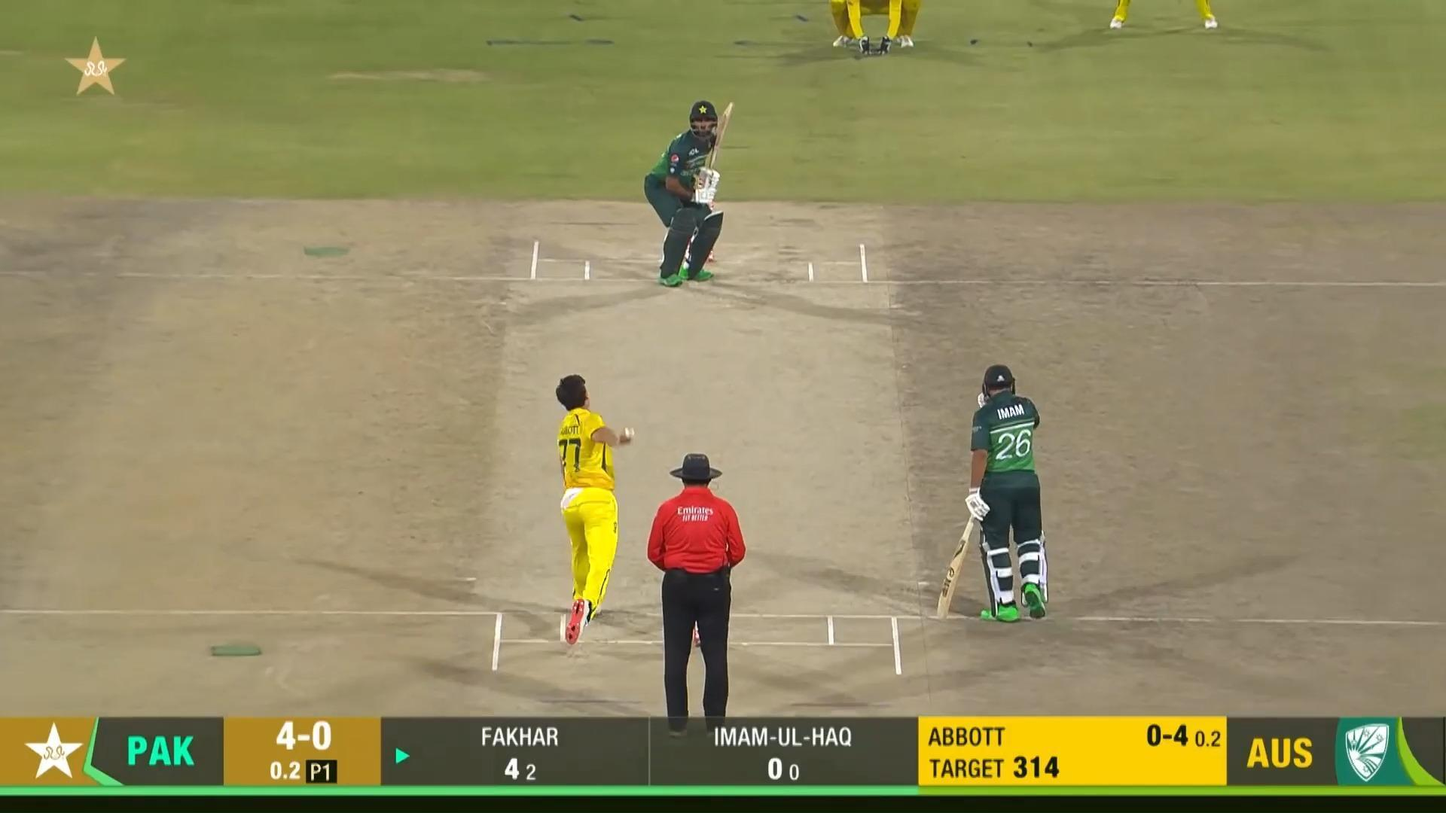BM 1: (644, 98, 737, 289)
BO: (555, 373, 632, 646)
